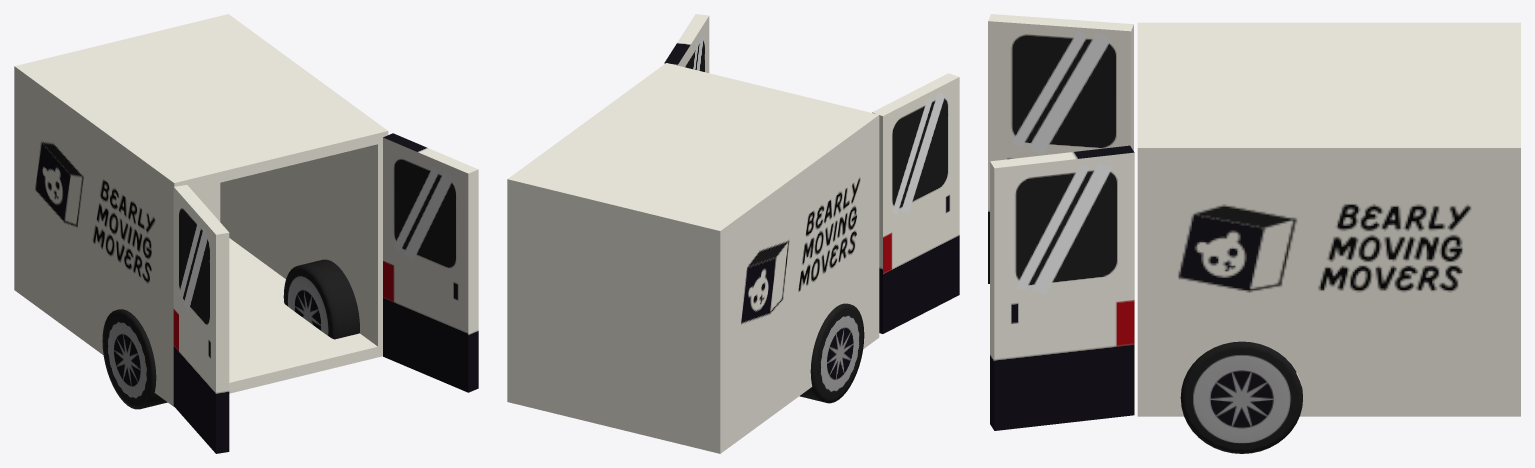
Rendered from Van.fbx.
The picture shows the model from 3 angles, left to right: view 1: azimuth 30°, elevation 25°; view 2: azimuth 150°, elevation 25°; view 3: azimuth 270°, elevation 25°; orthographic projection. The views are drawn at different scales.
Visible parts, largest first — view 1: Van, rightDoor, leftDoor, vanWheel2, vanWheel1; view 2: Van, leftDoor, vanWheel1, rightDoor; view 3: Van, rightDoor, leftDoor, vanWheel2.
Boxes of the visible parts, x1,y1,x2,y2 form: Van: (14, 14, 388, 406); rightDoor: (383, 133, 478, 392); leftDoor: (173, 185, 229, 453); vanWheel2: (283, 259, 359, 339); vanWheel1: (102, 309, 167, 409); Van: (507, 63, 879, 453); leftDoor: (872, 73, 959, 333); vanWheel1: (799, 303, 864, 403); rightDoor: (664, 14, 709, 72); Van: (1137, 22, 1520, 416); rightDoor: (990, 145, 1134, 430); leftDoor: (988, 14, 1133, 283); vanWheel2: (1180, 341, 1302, 453).
Bounding box in the file's own units: 6.14 × 5.64 × 8.95.
